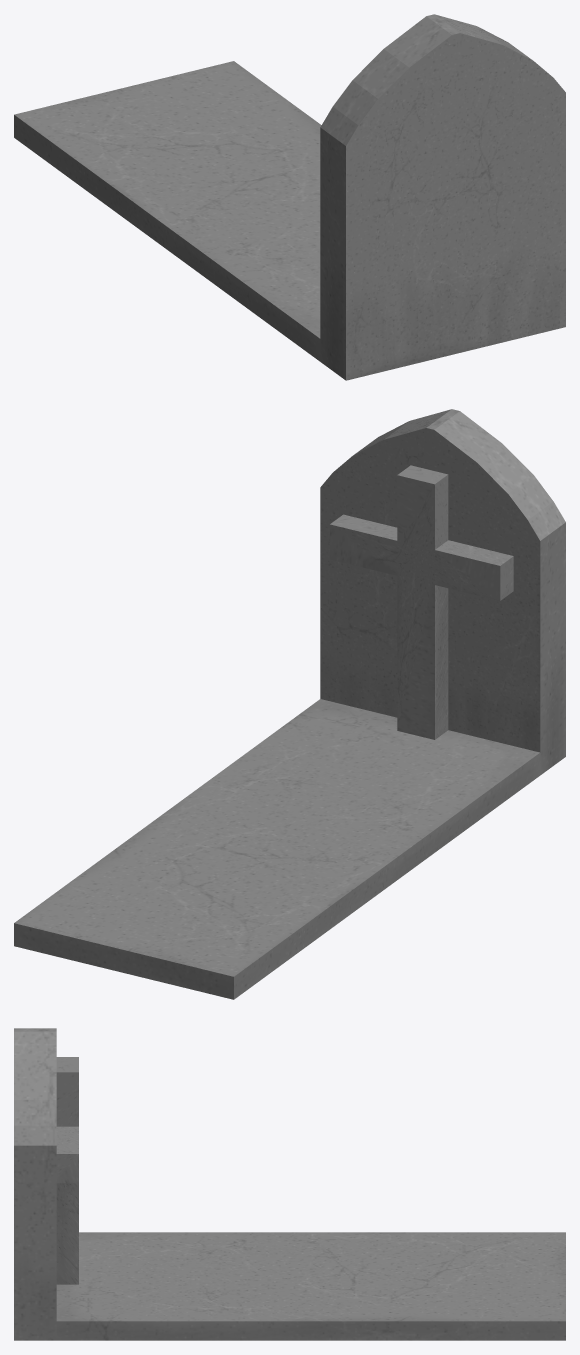
File: grave_08.fbx
3 renders of one model, top to bottom at view 1: azimuth 30°, elevation 25°; view 2: azimuth 150°, elevation 25°; view 3: azimuth 270°, elevation 25°, orthographic. The views are drawn at different scales.
Visible parts, largest first — view 1: grave 8; view 2: grave 8; view 3: grave 8.
Boxes of the visible parts, box(x1,y1,x2,y2) form: grave 8: box(14, 14, 565, 380); grave 8: box(14, 409, 565, 999); grave 8: box(14, 1028, 565, 1340).
Bounding box in the file's own units: 1.13 × 1.57 × 2.96.
